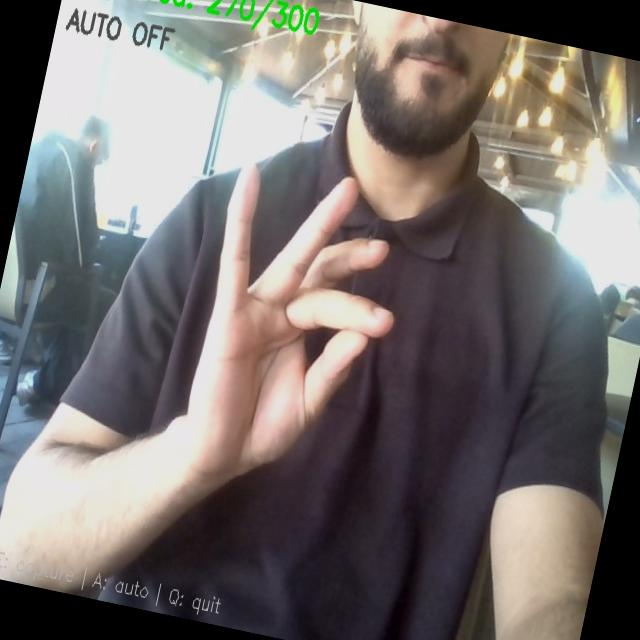Hand: (184, 167, 392, 479)
